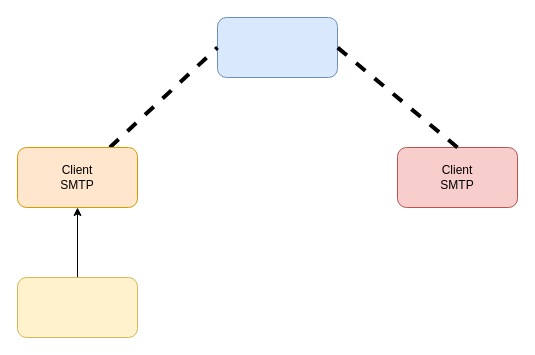
Some shapes in this 535 by 355 pixel diagram are drawn without their labels. The centre of each missing label's shape, as x and y in pixels:
"Image Binary" goes at point 77,307.
"Server SMTP" goes at point 277,47.
